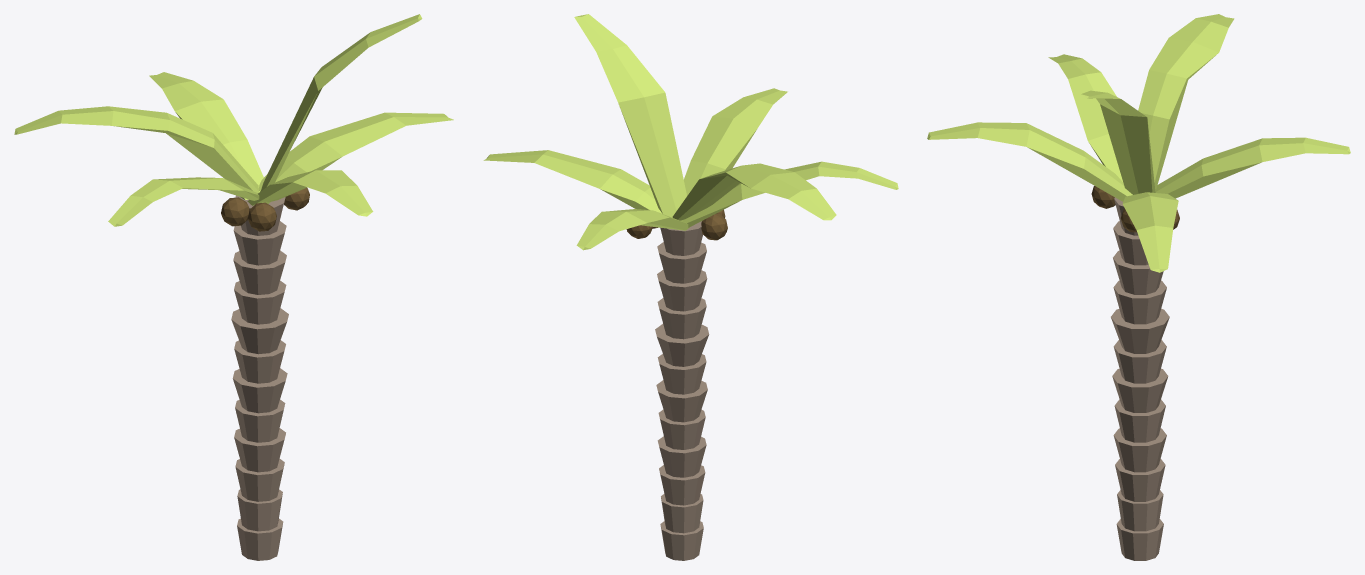
The model's file is Palmtree_1 1.fbx.
The picture shows the model from 3 angles, left to right: view 1: azimuth 30°, elevation 25°; view 2: azimuth 150°, elevation 25°; view 3: azimuth 270°, elevation 25°; orthographic projection. The views are drawn at different scales.
Parts seen in each view (by area): view 1: Palmtree_mesh; view 2: Palmtree_mesh; view 3: Palmtree_mesh.
Part boxes in pixels (x1,y1,x2,y2): Palmtree_mesh: [14, 14, 453, 560]; Palmtree_mesh: [483, 14, 898, 560]; Palmtree_mesh: [927, 14, 1350, 560].
Size of the model in its own units: 83848 by 103485 by 76078.
